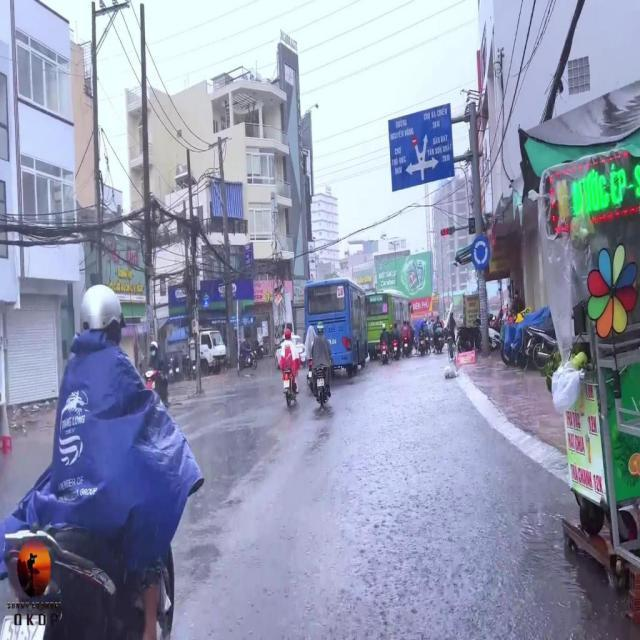303-noi-giao-nhau-chay-theo-vong-xuyen: (470, 235, 490, 269)
